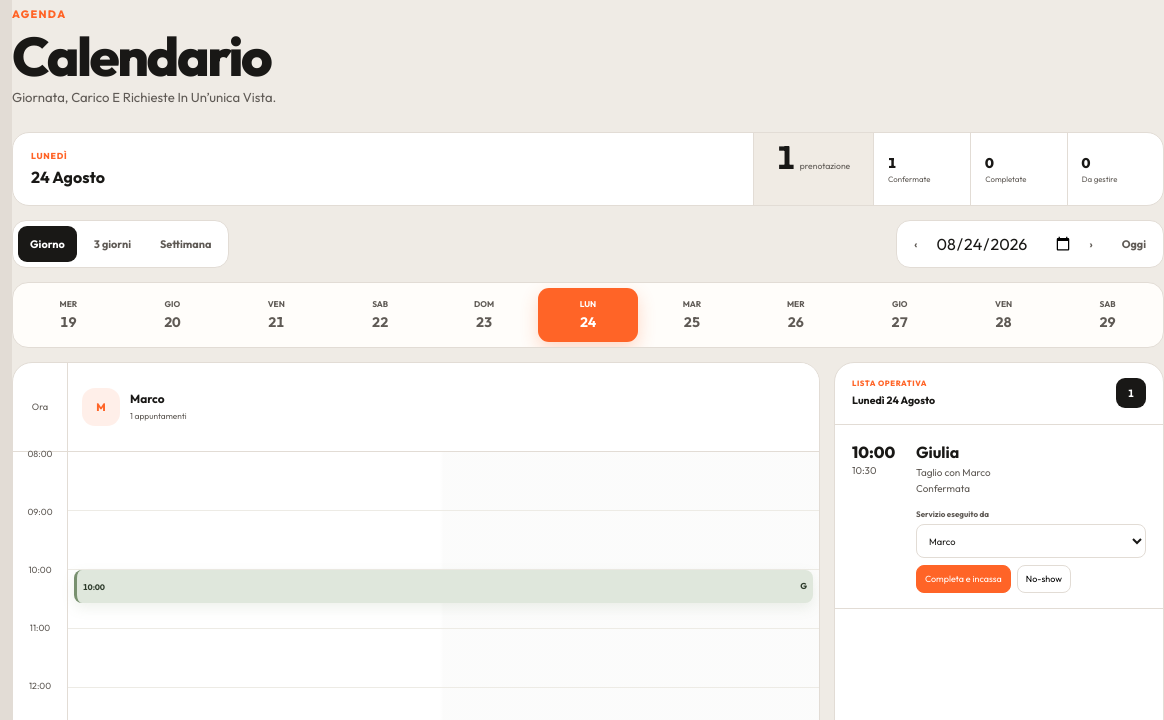
Test case: BookingsPage › chiude un appuntamento confermato attribuendolo all'operatore effettivo
Click the button "Completa e incassa": (963, 579) [916,565,1011,593]
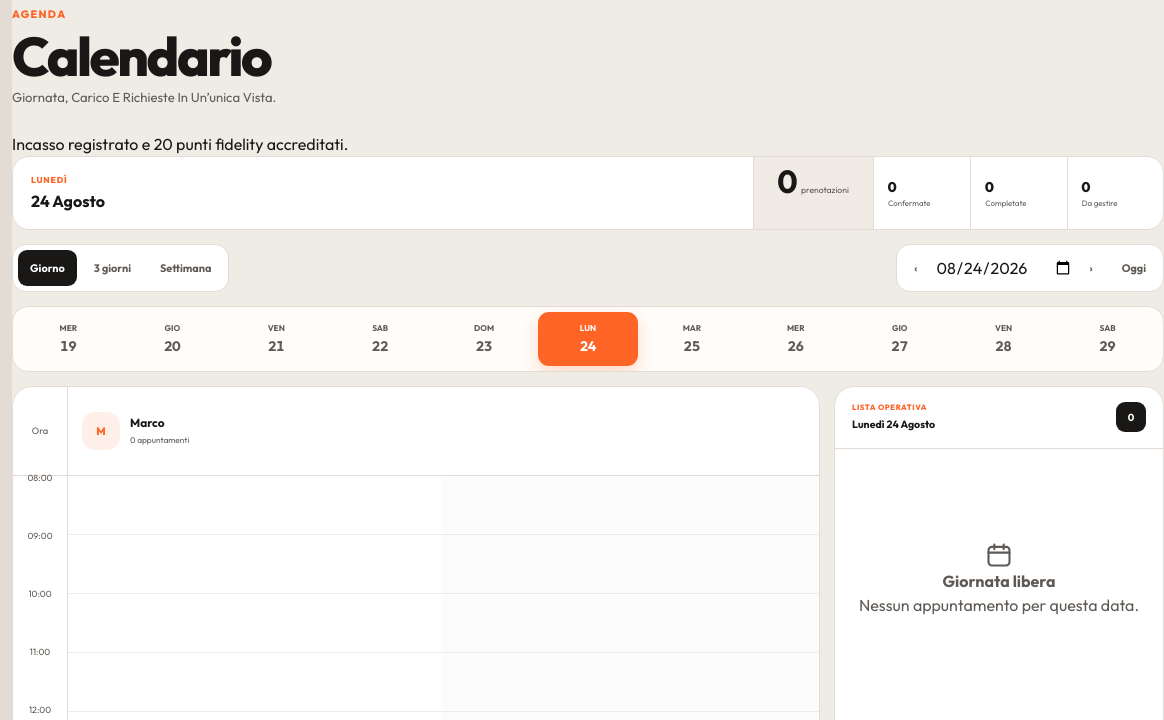
Check: the text "Incasso registrato e 20 punti fidelity accreditati." is shown, box [12,134,348,154]
